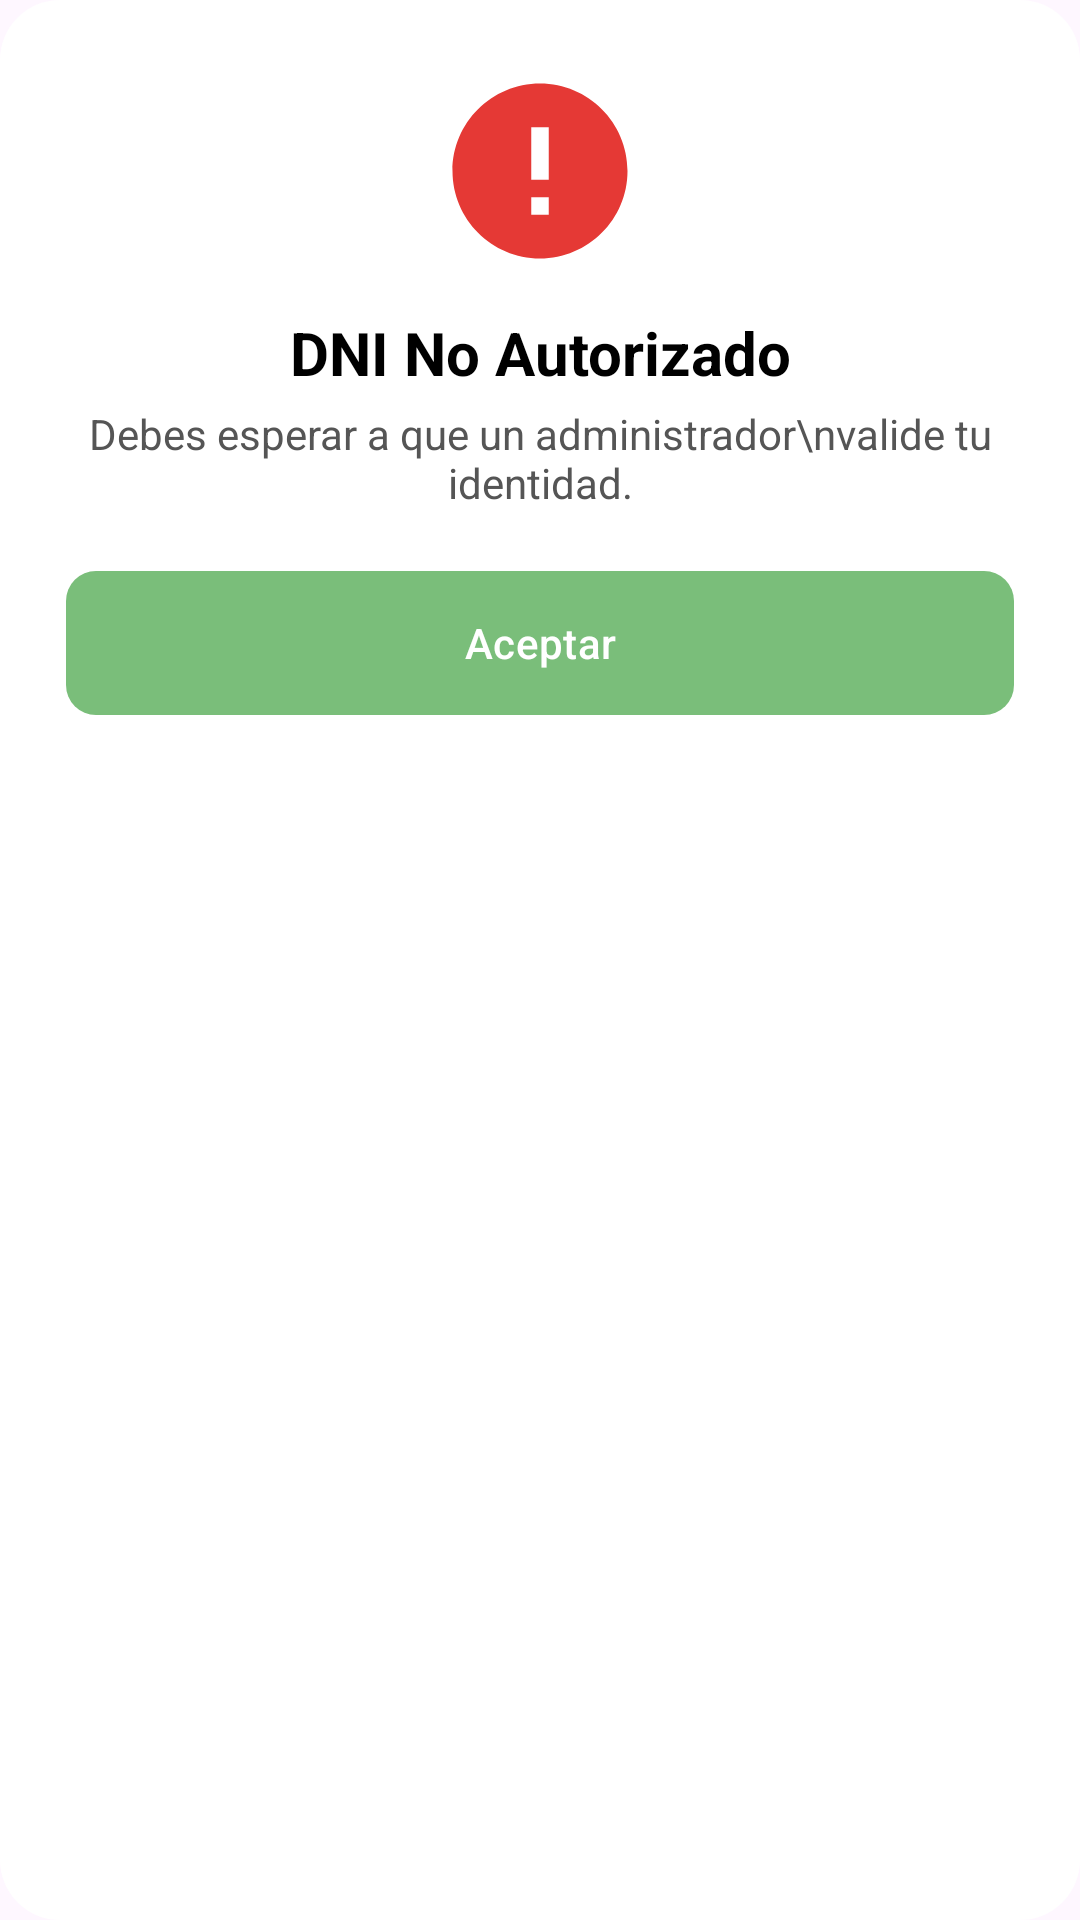

Point at icon controls on the screen. Image size 1080x1920, points as point (x, y).
error: point (540, 171)
